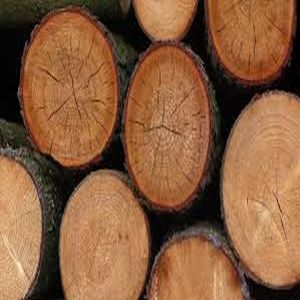log: (19, 5, 121, 172), (221, 93, 300, 288), (126, 39, 209, 211), (64, 169, 148, 300), (206, 2, 296, 82), (1, 154, 40, 299)
